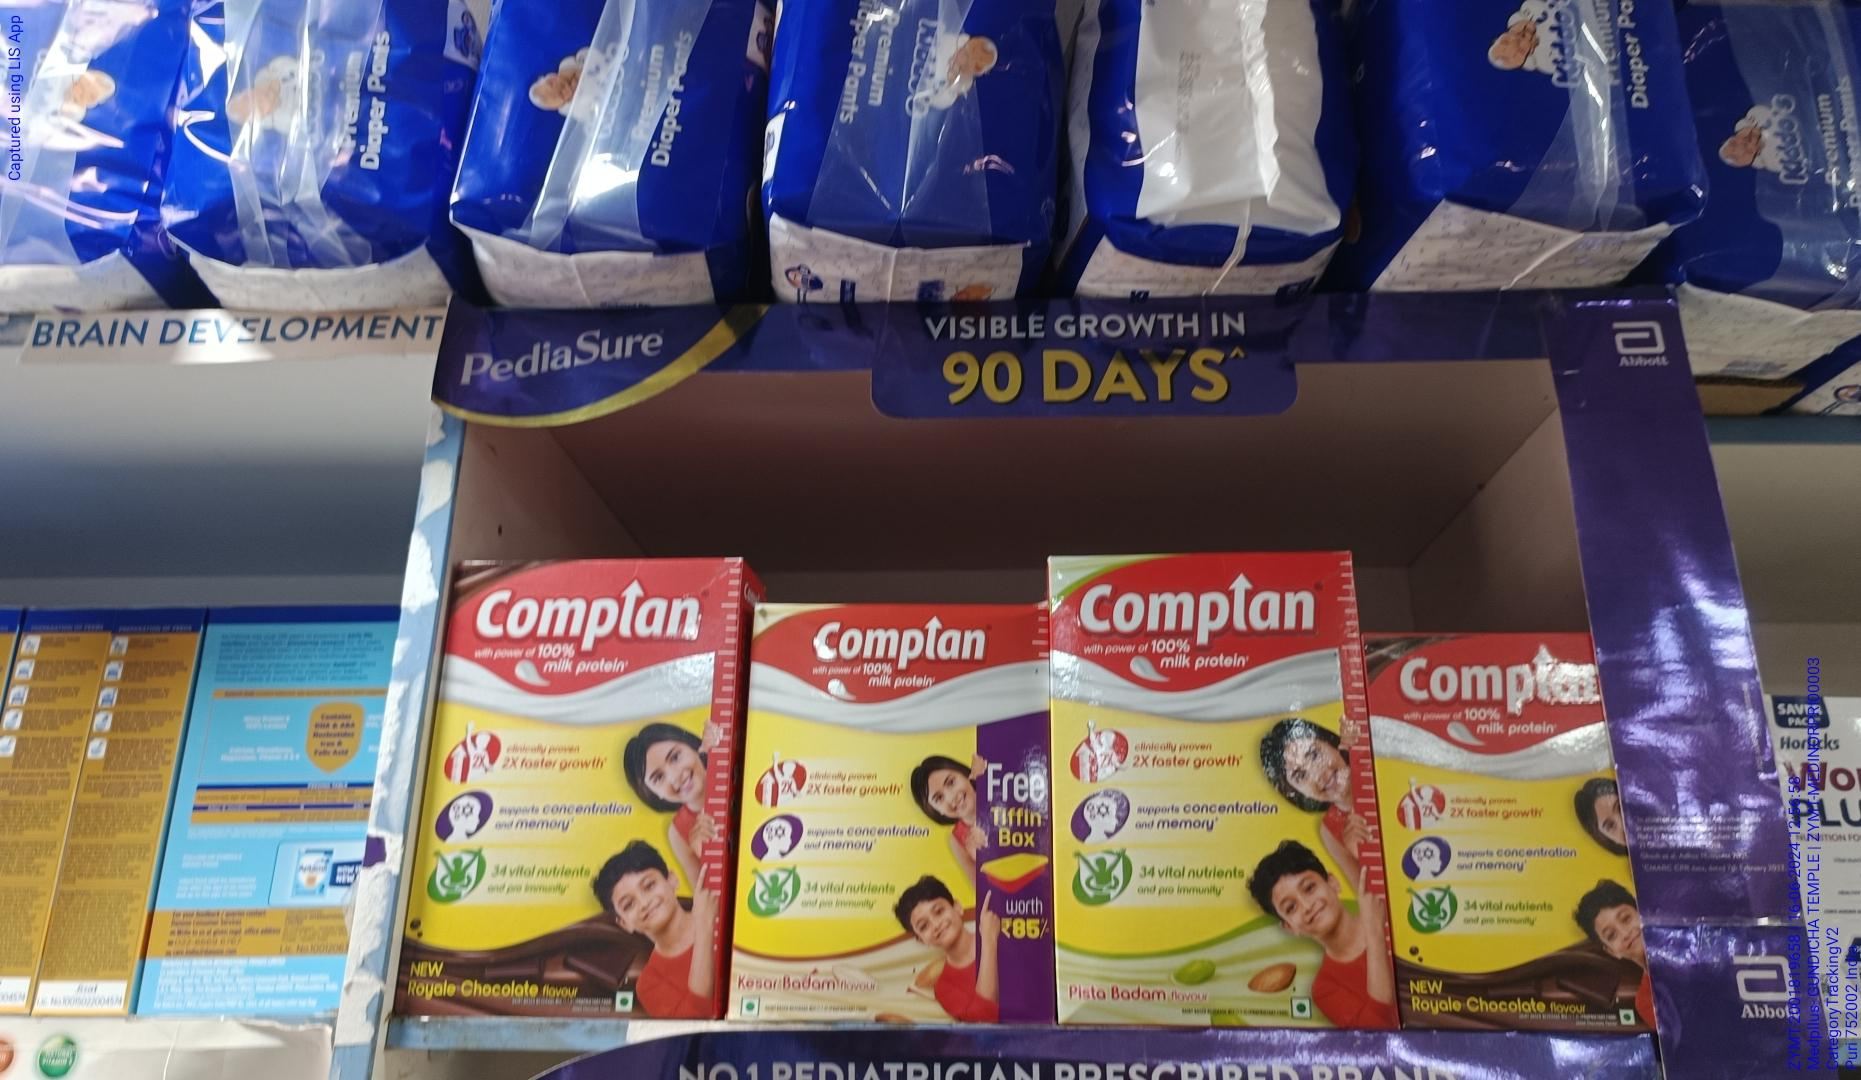COMPLAN_PISTA_BADAM_500_GMS_PACK: (1049, 553, 1365, 1031)
